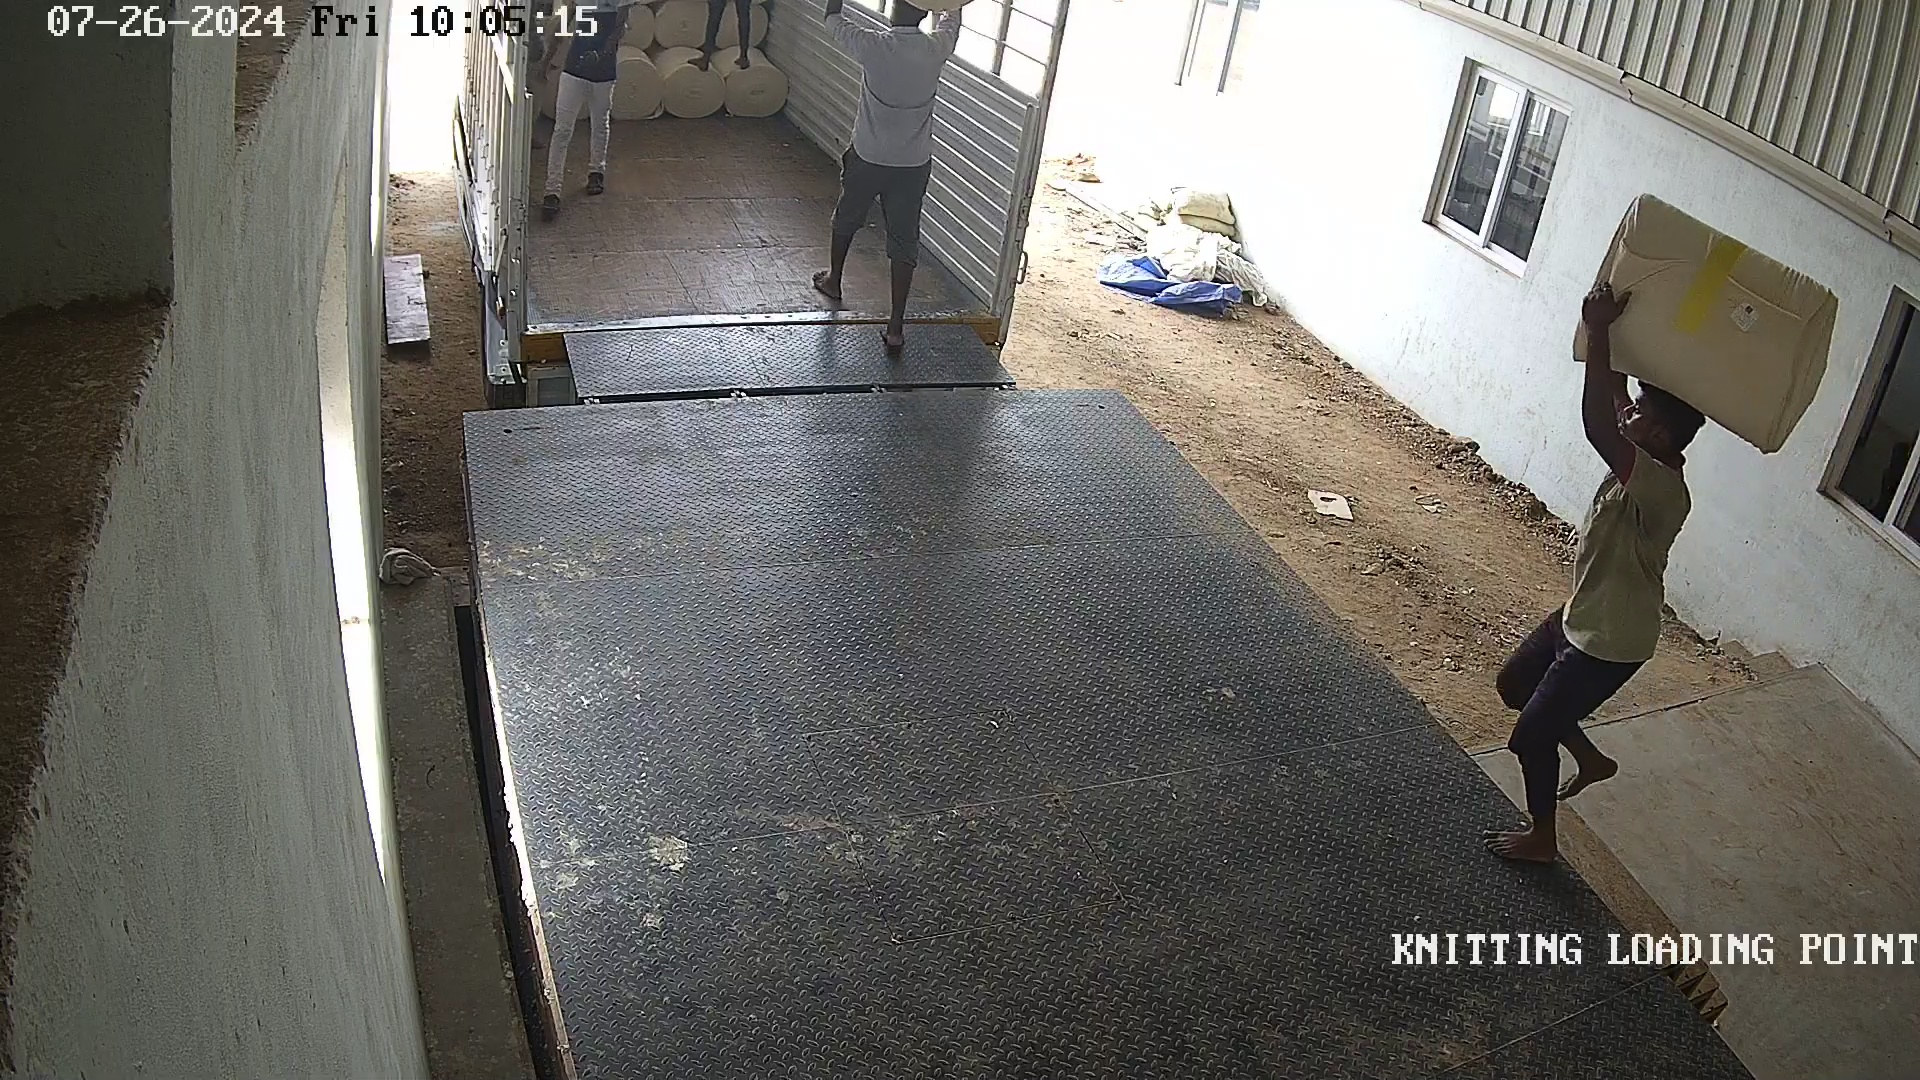bag: (1571, 182, 1853, 454)
